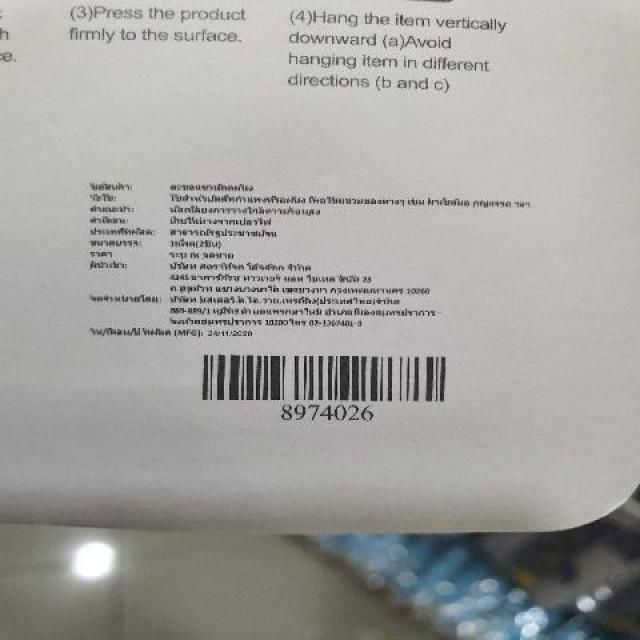Barcode: (192, 346, 459, 427)
